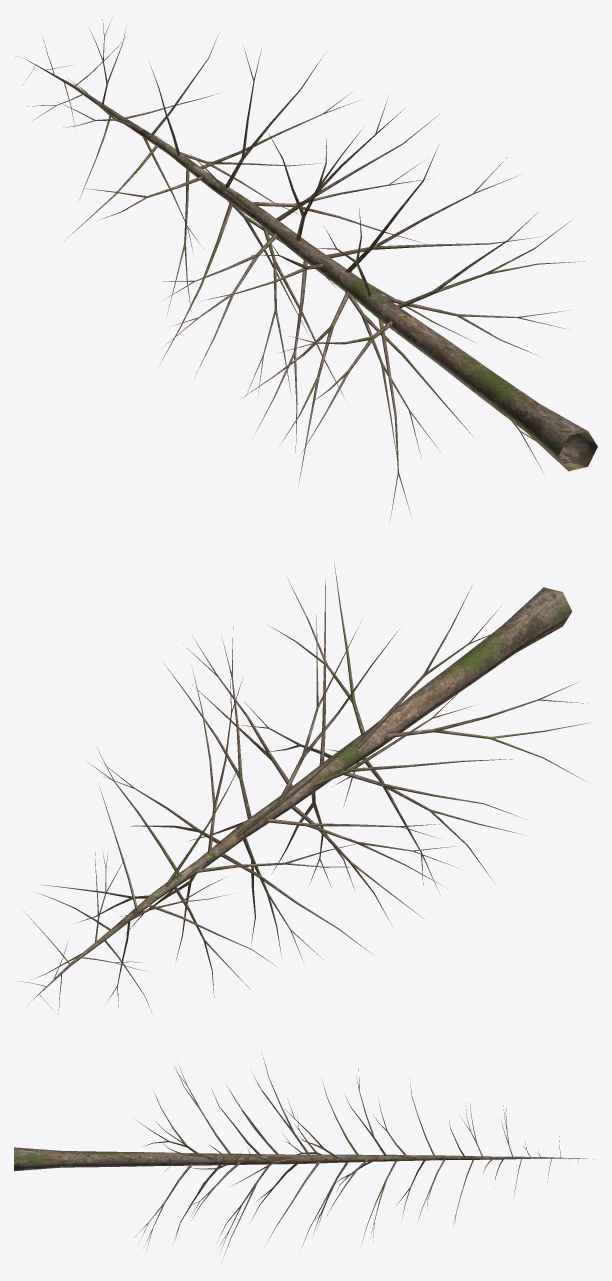
File: FirTree3.fbx
3 views of the same model, one above another, from view 1: azimuth 30°, elevation 25°; view 2: azimuth 150°, elevation 25°; view 3: azimuth 270°, elevation 25° (orthographic). The views are drawn at different scales.
Parts seen in each view (by area): view 1: tree; view 2: tree; view 3: tree.
Part boxes in pixels (<box>): tree: <box>16,19,597,521</box>; tree: <box>17,561,590,1013</box>; tree: <box>14,1053,592,1262</box>.
Size of the model in its own units: 1412 by 1384 by 3936.
1 material, 1 textured.
